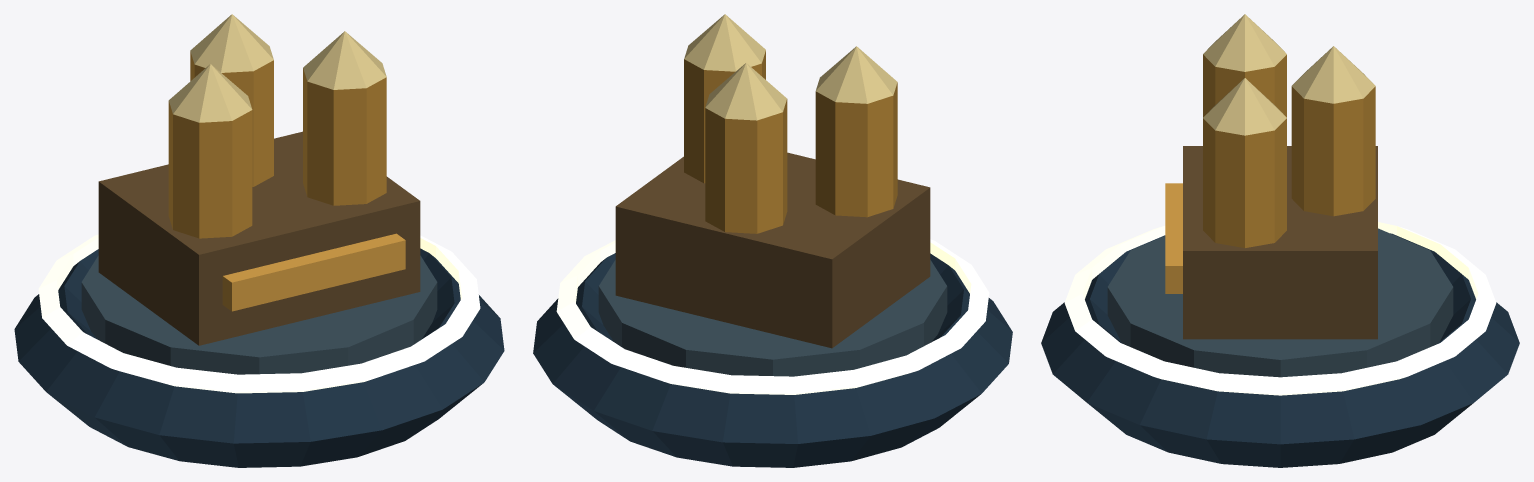
File: vulcan-magazine.glb
3 views of the same model, side by side, from view 1: azimuth 30°, elevation 25°; view 2: azimuth 150°, elevation 25°; view 3: azimuth 270°, elevation 25° (orthographic). The views are drawn at different scales.
Parts seen in each view (by area): view 1: vulcan-magazine; view 2: vulcan-magazine; view 3: vulcan-magazine.
Boxes of the visible parts, x1,y1,x2,y2 form: vulcan-magazine: (14, 14, 504, 467); vulcan-magazine: (533, 14, 1012, 467); vulcan-magazine: (1041, 14, 1519, 467).
Bounding box in the file's own units: 1.08 × 0.85 × 1.08.
